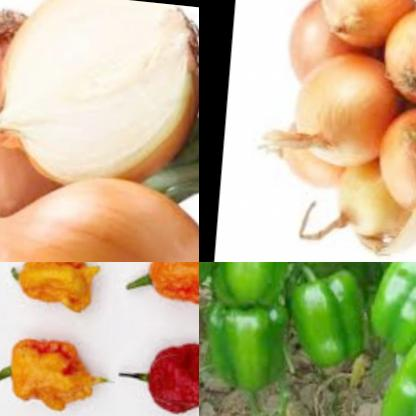bell pepper: (202, 297, 300, 394), (291, 262, 380, 365), (211, 262, 308, 307), (373, 262, 416, 347), (199, 262, 227, 294)
hot pepper: (0, 324, 102, 412), (115, 327, 199, 416), (2, 262, 108, 307), (118, 262, 199, 318)
onion: (0, 0, 199, 190), (0, 163, 199, 262), (0, 0, 66, 245), (289, 42, 393, 176), (275, 117, 369, 191), (283, 0, 360, 89), (333, 144, 403, 238), (304, 0, 413, 55), (371, 95, 416, 214), (377, 0, 416, 108)
